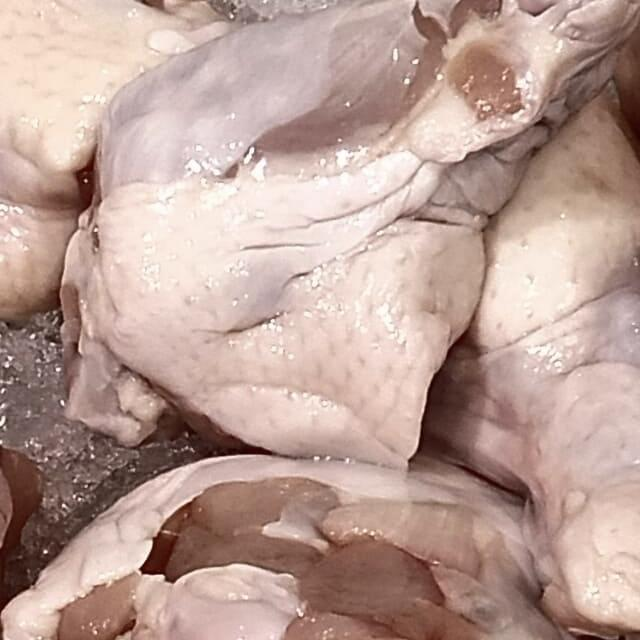chicken: (66, 0, 640, 467)
